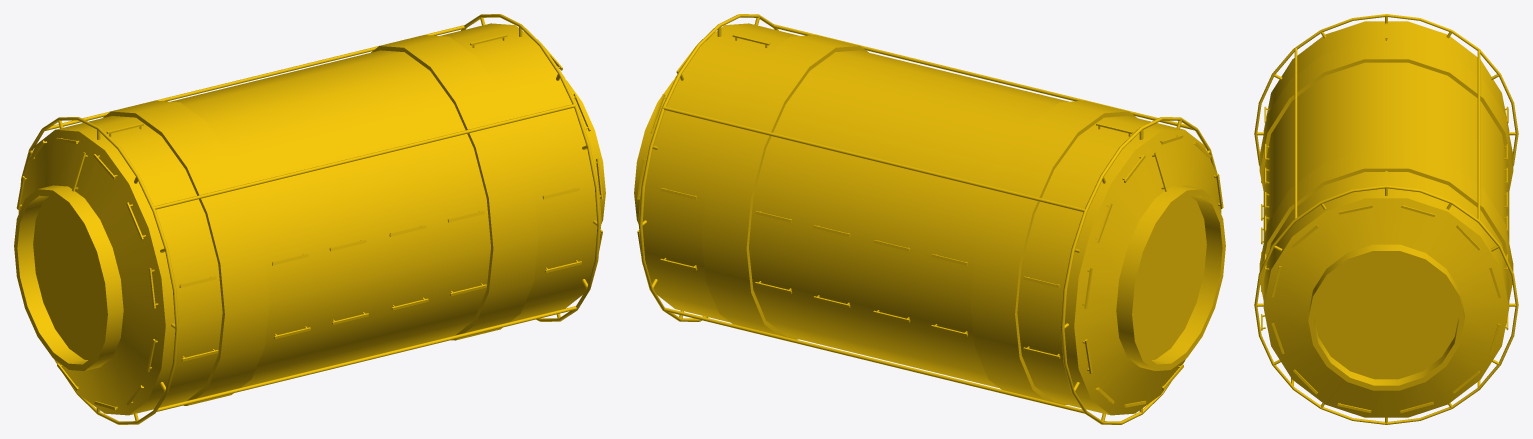
File: ExteriorPiece_Arm02.FBX
3 views of the same model, side by side, from view 1: azimuth 30°, elevation 25°; view 2: azimuth 150°, elevation 25°; view 3: azimuth 270°, elevation 25° (orthographic). The views are drawn at different scales.
Parts seen in each view (by area): view 1: ExteriorPiece_Arm_02; view 2: ExteriorPiece_Arm_02; view 3: ExteriorPiece_Arm_02.
Boxes of the visible parts, x1,y1,x2,y2 form: ExteriorPiece_Arm_02: (14, 14, 605, 424); ExteriorPiece_Arm_02: (634, 14, 1225, 424); ExteriorPiece_Arm_02: (1254, 14, 1518, 424).
Bounding box in the file's own units: 996 × 550 × 550.
